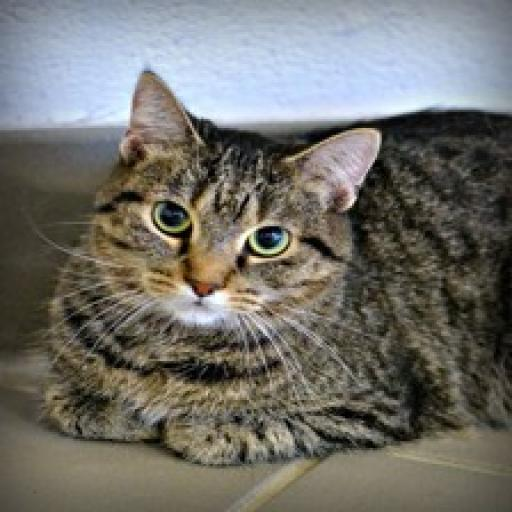cat: (18, 59, 512, 467)
